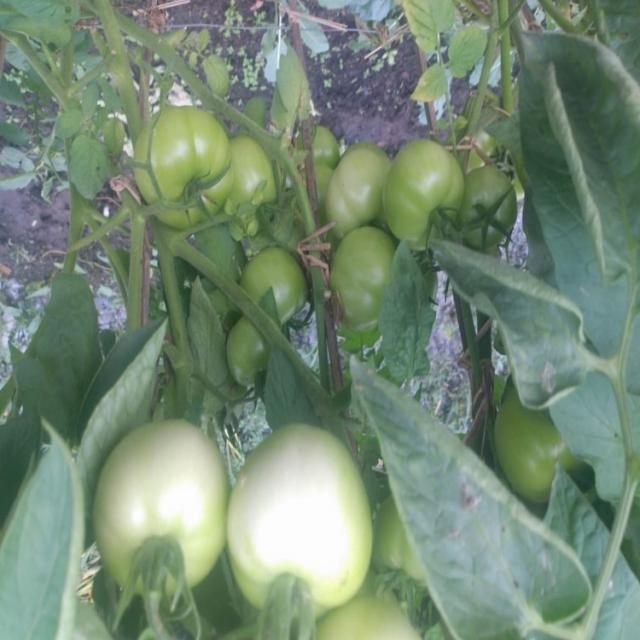tomato: (227, 413, 380, 620), (95, 421, 224, 600), (124, 104, 229, 236), (373, 128, 479, 254), (489, 374, 582, 501), (337, 217, 417, 326), (317, 135, 400, 235), (450, 147, 525, 254), (189, 131, 278, 221), (313, 588, 428, 640), (244, 248, 310, 320), (219, 311, 267, 394)
